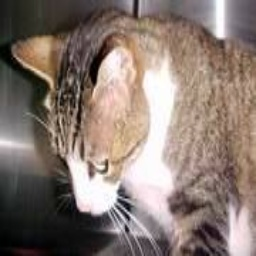cat: (5, 10, 256, 251)
